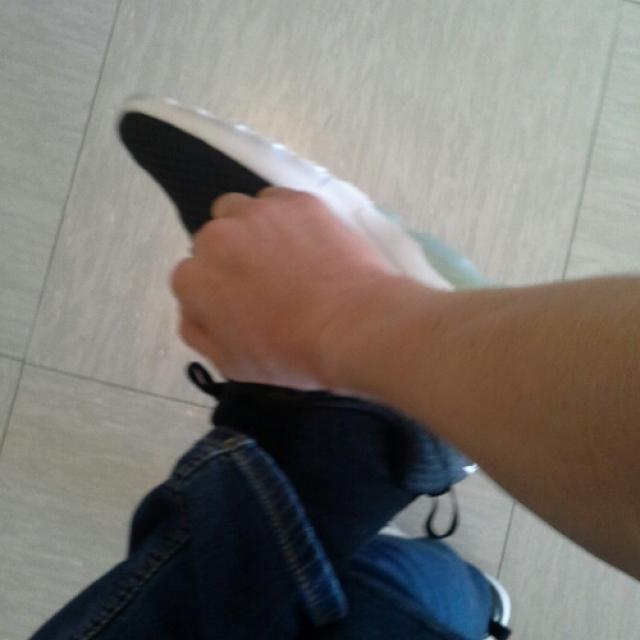fist: (166, 182, 365, 394)
